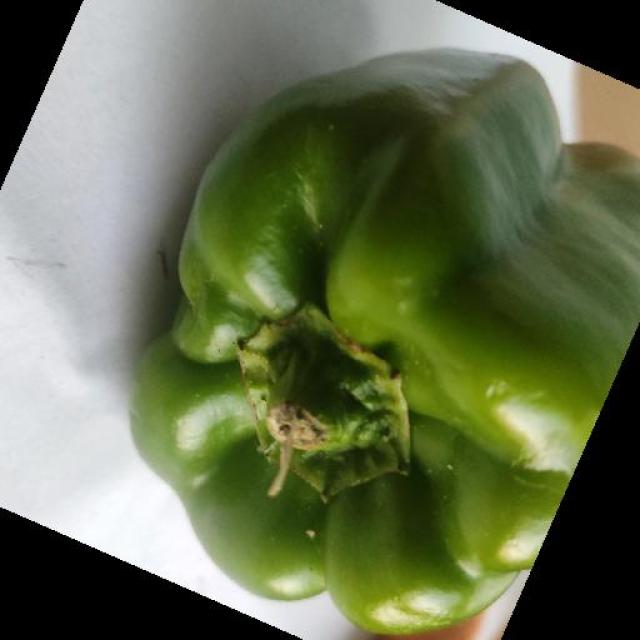Fresh_Capsicum: (119, 41, 609, 624)
